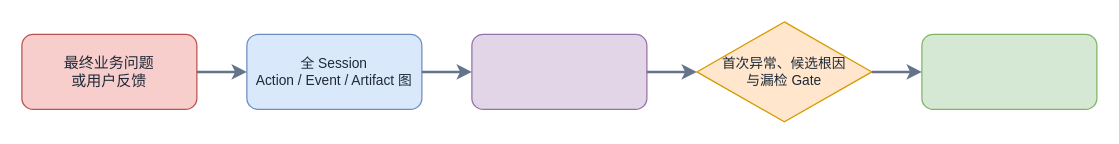
The diagram is 1119 pixels wide and 144 high, and some of its shapes have lost their labels. Each missing label, with the box of its shape:
反向追踪 跨阶段传播链: (471, 33, 647, 109)
领域专家确认、纠正 或标记证据不足: (921, 33, 1097, 109)
